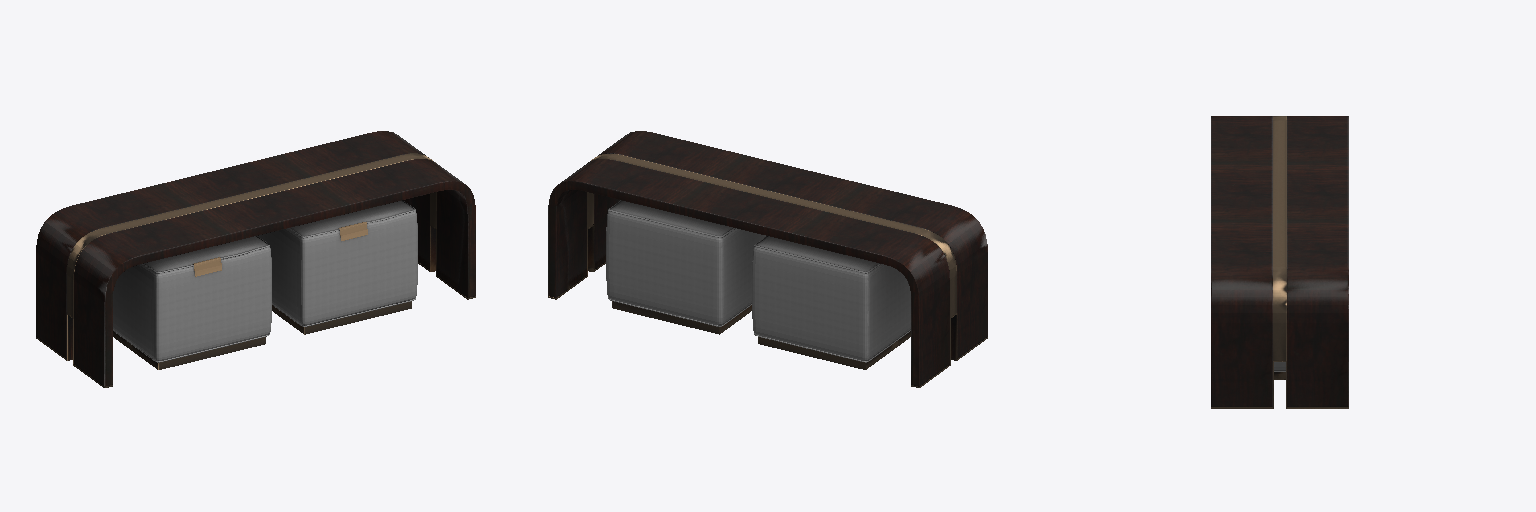
3 views of the same model, side by side, from view 1: azimuth 30°, elevation 25°; view 2: azimuth 150°, elevation 25°; view 3: azimuth 270°, elevation 25° (orthographic).
Visible parts, largest first — view 1: solid_004, solid_002, solid_003, solid_001; view 2: solid_004, solid_002, solid_003; view 3: solid_004, solid_003.
Part boxes in pixels (x1,y1,x2,y2): solid_004: (36,131,475,386); solid_002: (113,200,417,362); solid_003: (36,153,475,387); solid_001: (193,222,367,276); solid_004: (548,131,987,386); solid_002: (606,200,910,362); solid_003: (548,154,987,387); solid_004: (1211,116,1348,406); solid_003: (1211,116,1348,408).
Size of the model in its own units: 1.94 by 0.6196 by 0.623.
Materials: 1 (1 with a texture image).